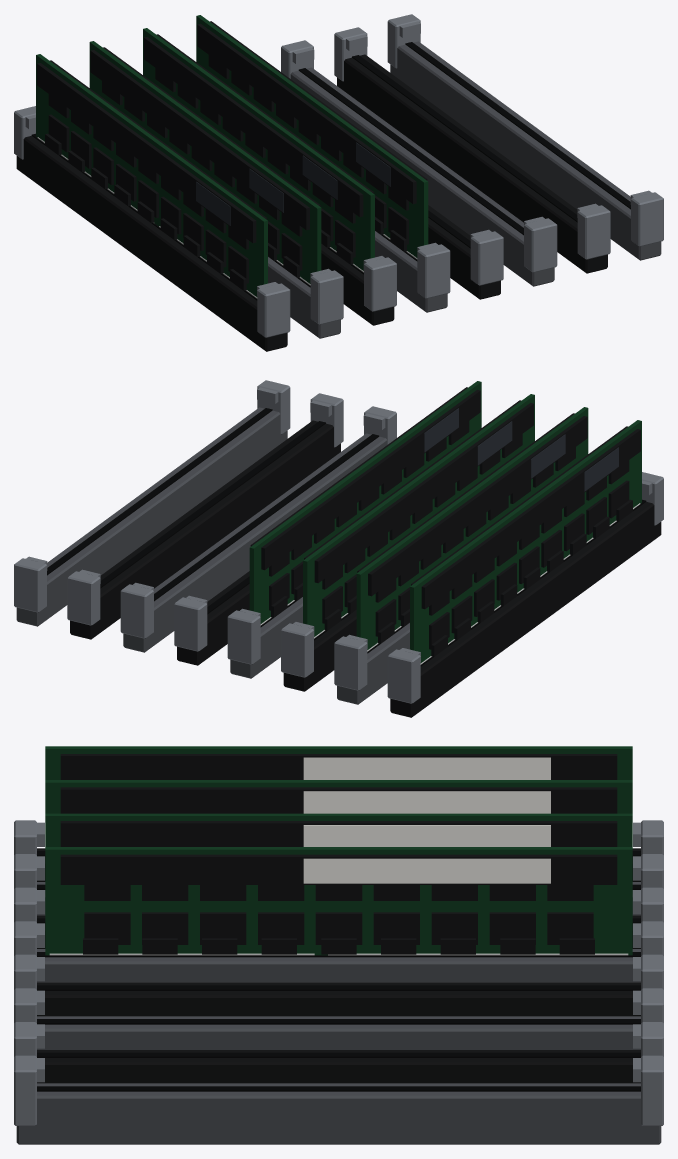
The model's file is hwm_ram_ddr3_64gb.glb.
3 views of the same model, one above another, from view 1: azimuth 30°, elevation 25°; view 2: azimuth 150°, elevation 25°; view 3: azimuth 270°, elevation 25° (orthographic). The views are drawn at different scales.
Visible parts, largest first — view 1: Slots, Stick_0, Stick_1, Stick_3, Stick_2, Latch_1_1, Latch_4_1, Latch_6_1, Latch_5_1, Latch_0_1, Latch_3_1, Latch_7_1 (+5 smaller); view 2: Slots, Stick_0, Stick_1, Stick_3, Stick_2, Latch_1_0, Latch_4_0, Latch_6_0, Latch_5_0, Latch_0_0, Latch_3_0, Latch_7_0 (+5 smaller); view 3: Slots, Stick_3, Stick_0, Stick_1, Stick_2, Latch_7_0, Latch_7_1, Latch_2_0, Latch_2_1, Latch_4_0, Latch_4_1, Latch_0_0 (+9 smaller).
Boxes of the visible parts, left/top/right/bottom form: Slots: left=16, top=41, right=661, bottom=351; Stick_0: left=36, top=54, right=267, bottom=298; Stick_1: left=89, top=41, right=321, bottom=285; Stick_3: left=196, top=15, right=428, bottom=259; Stick_2: left=143, top=28, right=374, bottom=272; Latch_1_1: left=310, top=268, right=343, bottom=324; Latch_4_1: left=470, top=229, right=503, bottom=285; Latch_6_1: left=577, top=203, right=610, bottom=259; Latch_5_1: left=524, top=216, right=557, bottom=272; Latch_0_1: left=257, top=282, right=290, bottom=337; Latch_3_1: left=417, top=242, right=450, bottom=298; Latch_7_1: left=630, top=190, right=663, bottom=246; Slots: left=16, top=407, right=661, bottom=717; Stick_0: left=410, top=420, right=641, bottom=664; Stick_1: left=356, top=407, right=588, bottom=651; Stick_3: left=249, top=381, right=481, bottom=625; Stick_2: left=303, top=394, right=534, bottom=638; Latch_1_0: left=334, top=634, right=367, bottom=690; Latch_4_0: left=174, top=595, right=207, bottom=651; Latch_6_0: left=67, top=569, right=100, bottom=625; Latch_5_0: left=120, top=582, right=153, bottom=638; Latch_0_0: left=387, top=648, right=420, bottom=703; Latch_3_0: left=227, top=608, right=260, bottom=664; Latch_7_0: left=14, top=556, right=47, bottom=612; Slots: left=16, top=848, right=661, bottom=1144; Stick_3: left=45, top=847, right=632, bottom=955; Stick_0: left=45, top=746, right=632, bottom=779; Stick_1: left=45, top=780, right=632, bottom=813; Stick_2: left=45, top=813, right=632, bottom=846; Latch_7_0: left=633, top=1055, right=663, bottom=1125; Latch_7_1: left=14, top=1055, right=44, bottom=1125; Latch_2_0: left=633, top=887, right=663, bottom=922; Latch_2_1: left=14, top=887, right=44, bottom=922; Latch_4_0: left=633, top=954, right=663, bottom=989; Latch_4_1: left=14, top=954, right=44, bottom=989; Latch_0_0: left=633, top=820, right=663, bottom=855.
Size of the model in its own units: 0.1346 by 0.0389 by 0.1472.
